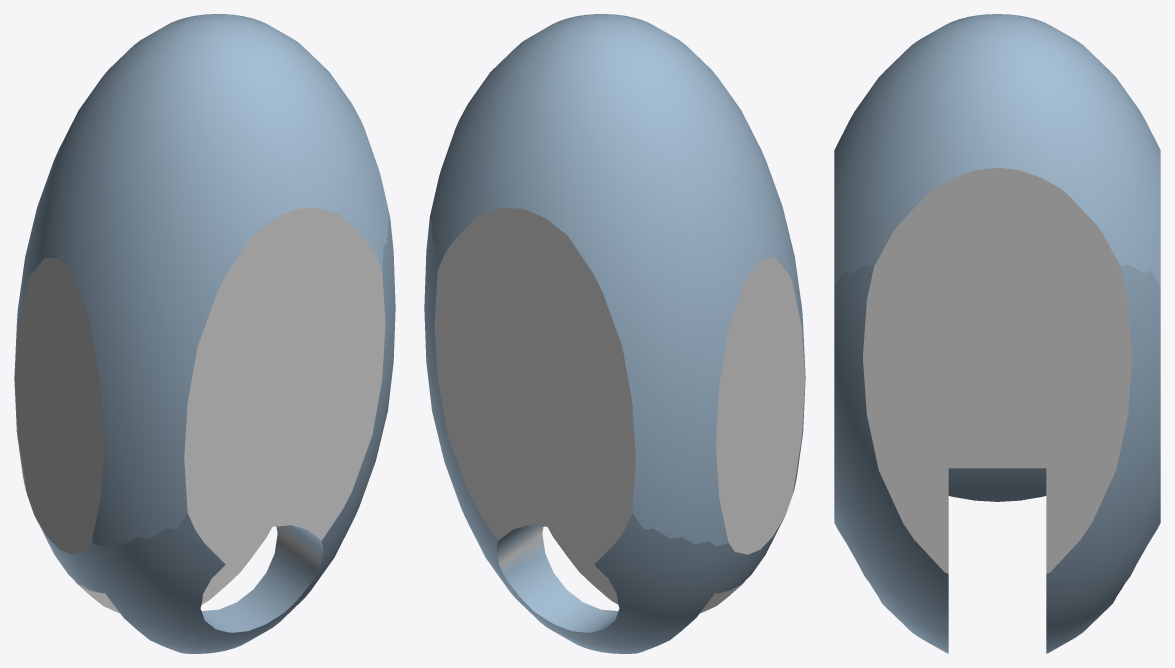
Rendered from endPhalange5x3.glb.
The picture shows the model from 3 angles, left to right: view 1: azimuth 30°, elevation 25°; view 2: azimuth 150°, elevation 25°; view 3: azimuth 270°, elevation 25°; orthographic projection. The views are drawn at different scales.
Size of the model in its own units: 0.3 by 0.6388 by 0.3.
